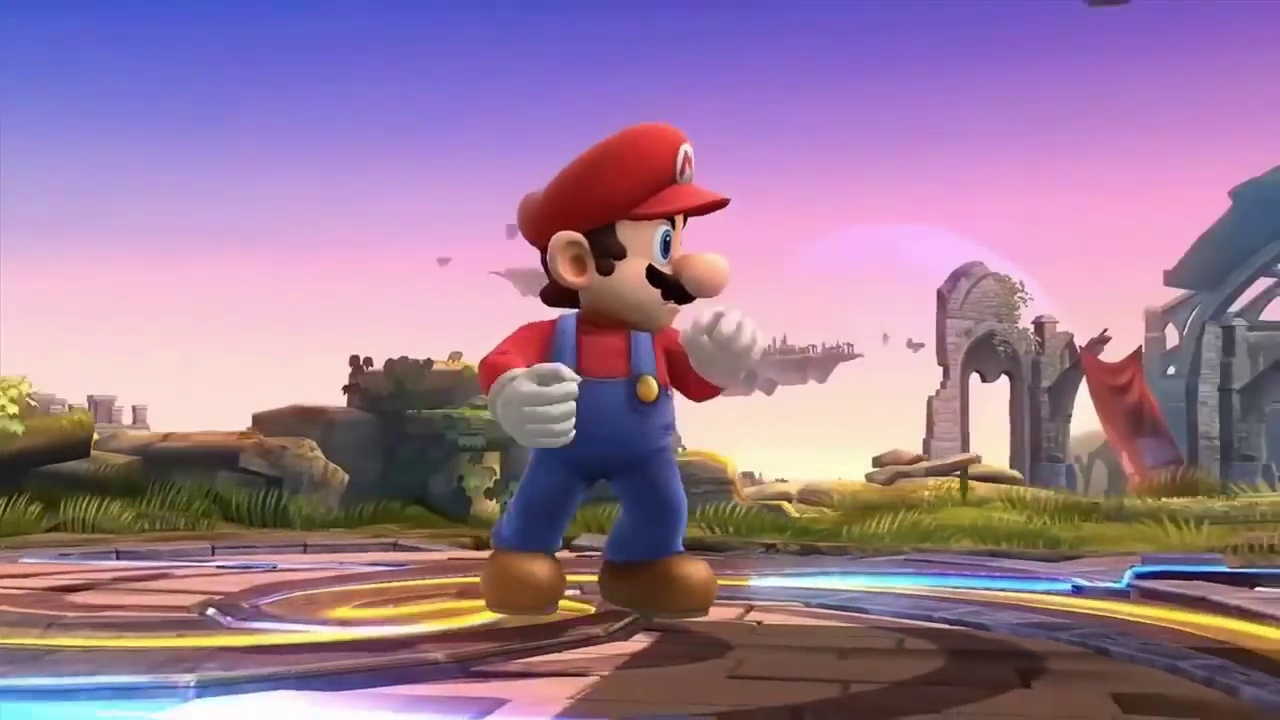Mario: (477, 122, 763, 617)
